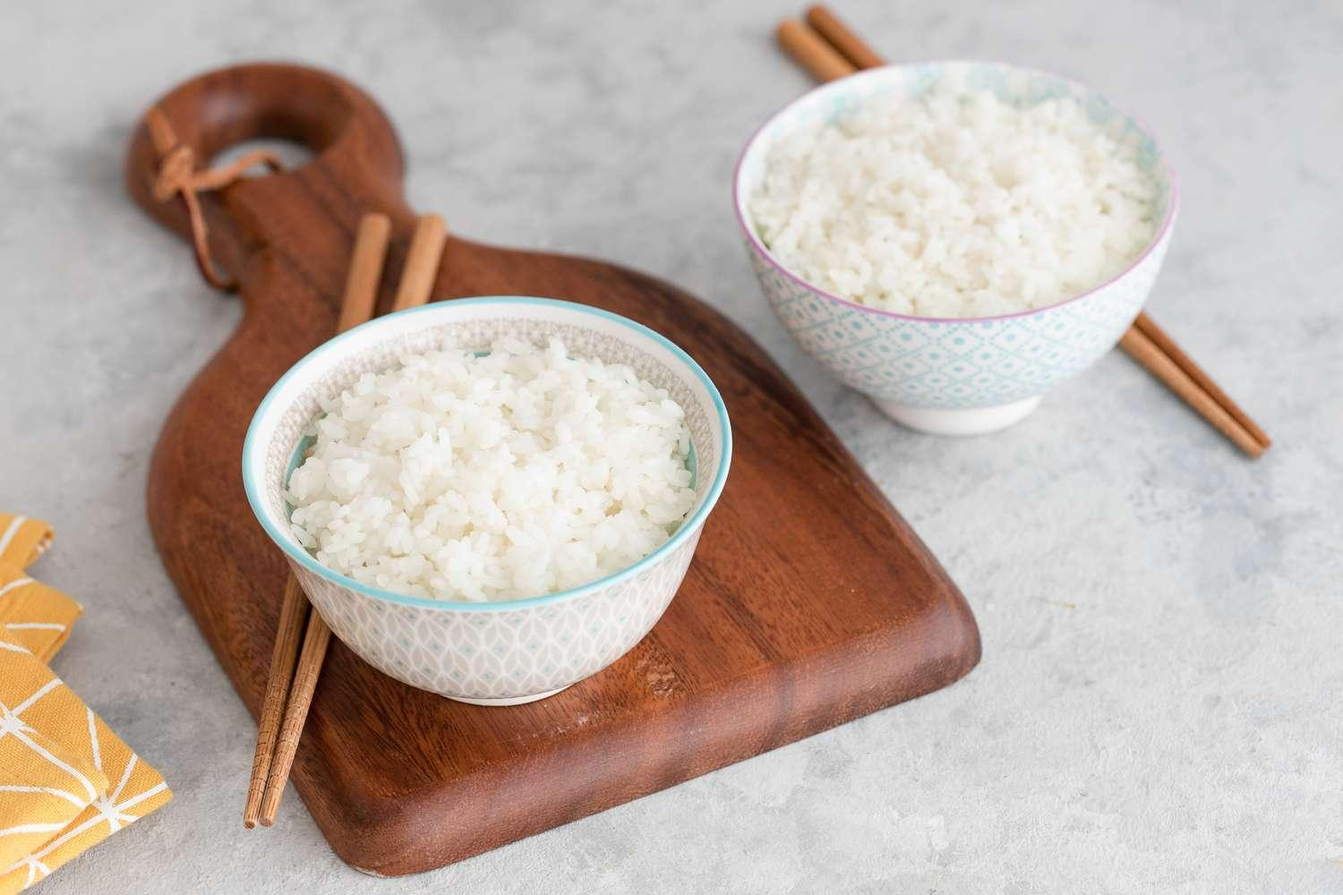rice: (287, 321, 706, 597), (765, 78, 1166, 318)
